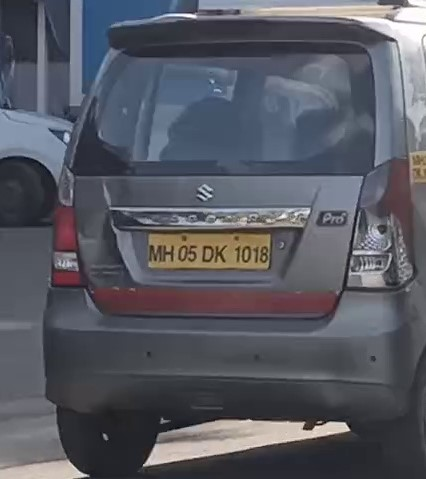MH05DK1018: (147, 232, 271, 270)
